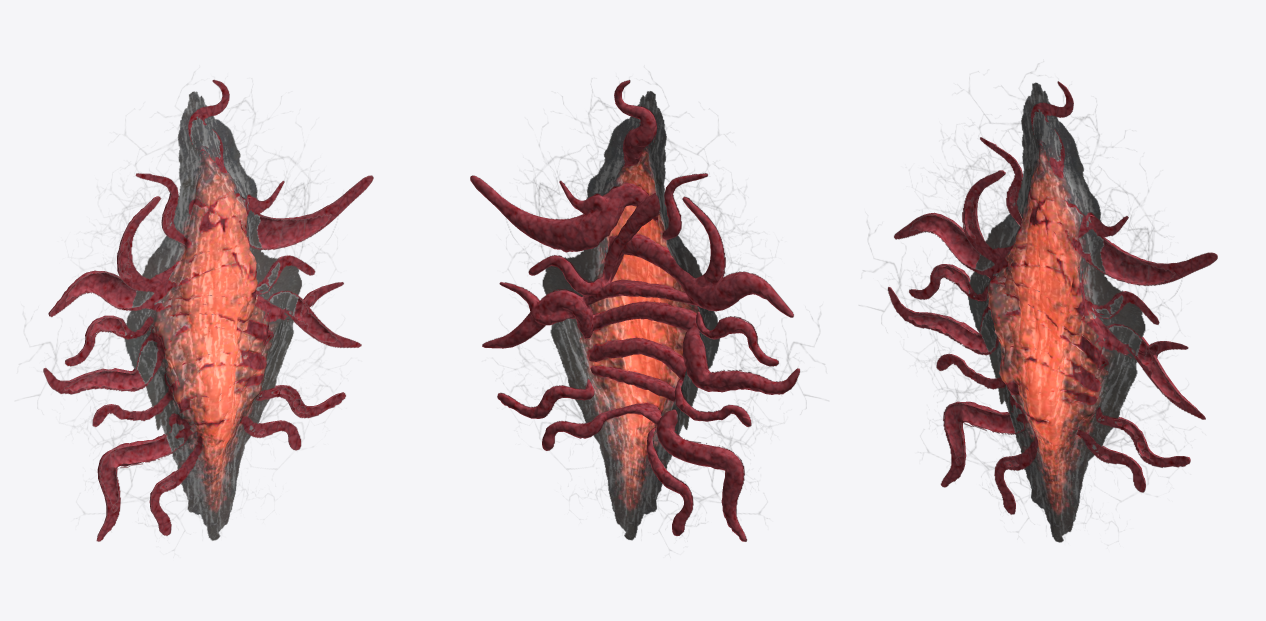
File: rift.glb
The picture shows the model from 3 angles, left to right: view 1: azimuth 30°, elevation 25°; view 2: azimuth 150°, elevation 25°; view 3: azimuth 330°, elevation 25°; orthographic projection.
Parts seen in each view (by area): view 1: Rift; view 2: Rift; view 3: Rift.
Part boxes in pixels (x1,y1,x2,y2): Rift: [19, 72, 373, 550]; Rift: [470, 72, 824, 550]; Rift: [859, 64, 1217, 542].
Bounding box in the file's own units: 1.46 × 1.77 × 0.1205.
Materials: 1 (1 with a texture image).
